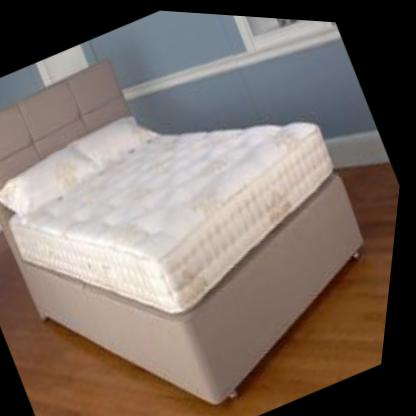Bed: (0, 59, 370, 403)
